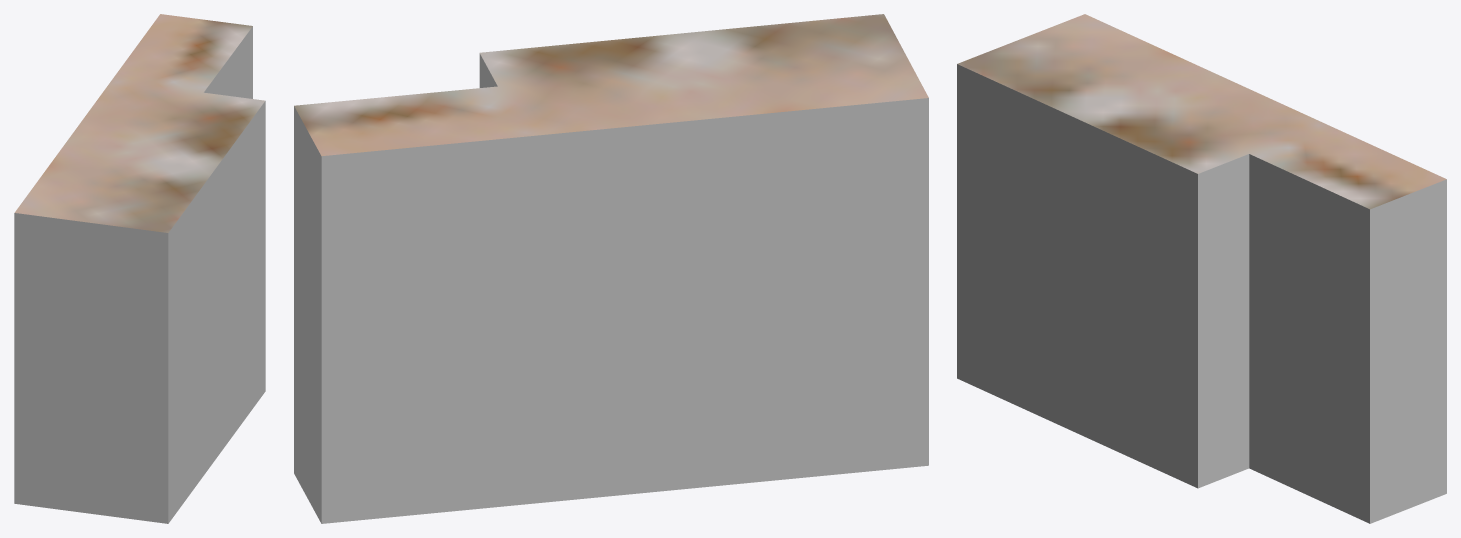
Rendered from DEBW_0010007THYx.gltf.
The picture shows the model from 3 angles, left to right: view 1: azimuth 30°, elevation 25°; view 2: azimuth 150°, elevation 25°; view 3: azimuth 270°, elevation 25°; orthographic projection. The views are drawn at different scales.
Visible parts, largest first — view 1: Z_UP; view 2: Z_UP; view 3: Z_UP.
Boxes of the visible parts, box(x1,y1,x2,y2) form: Z_UP: box(14, 14, 265, 523); Z_UP: box(294, 14, 928, 523); Z_UP: box(957, 14, 1446, 523).
Bounding box in the file's own units: 5.24 × 3.93 × 5.55.
Materials: 2 (1 with a texture image).
